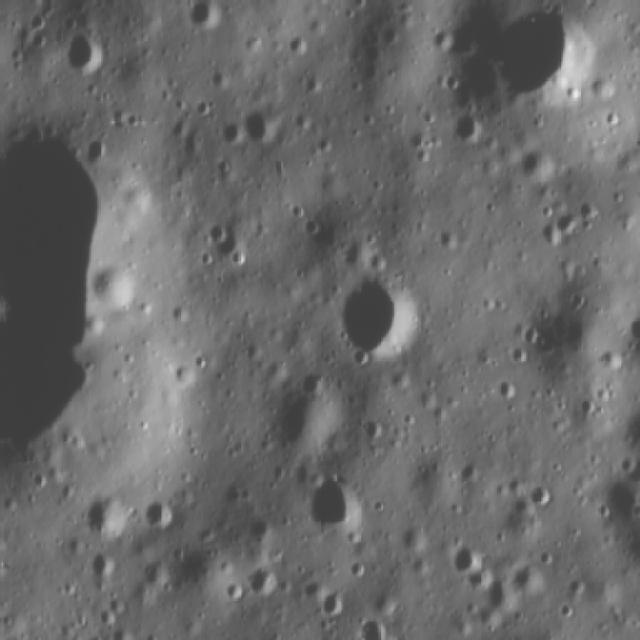crater: (3, 119, 145, 458), (478, 5, 592, 101), (336, 258, 430, 360), (260, 375, 342, 462), (299, 468, 355, 534), (52, 28, 112, 74), (83, 485, 131, 537), (227, 94, 278, 140), (227, 562, 281, 601), (173, 0, 224, 38), (437, 537, 485, 575), (138, 493, 174, 533)
